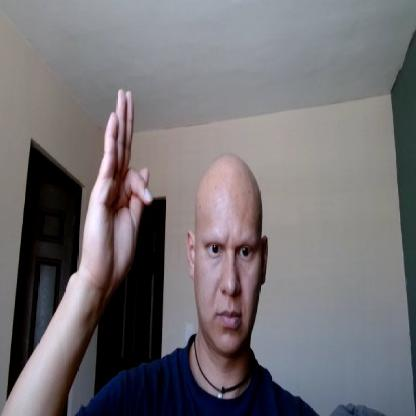F: (81, 87, 154, 282)
